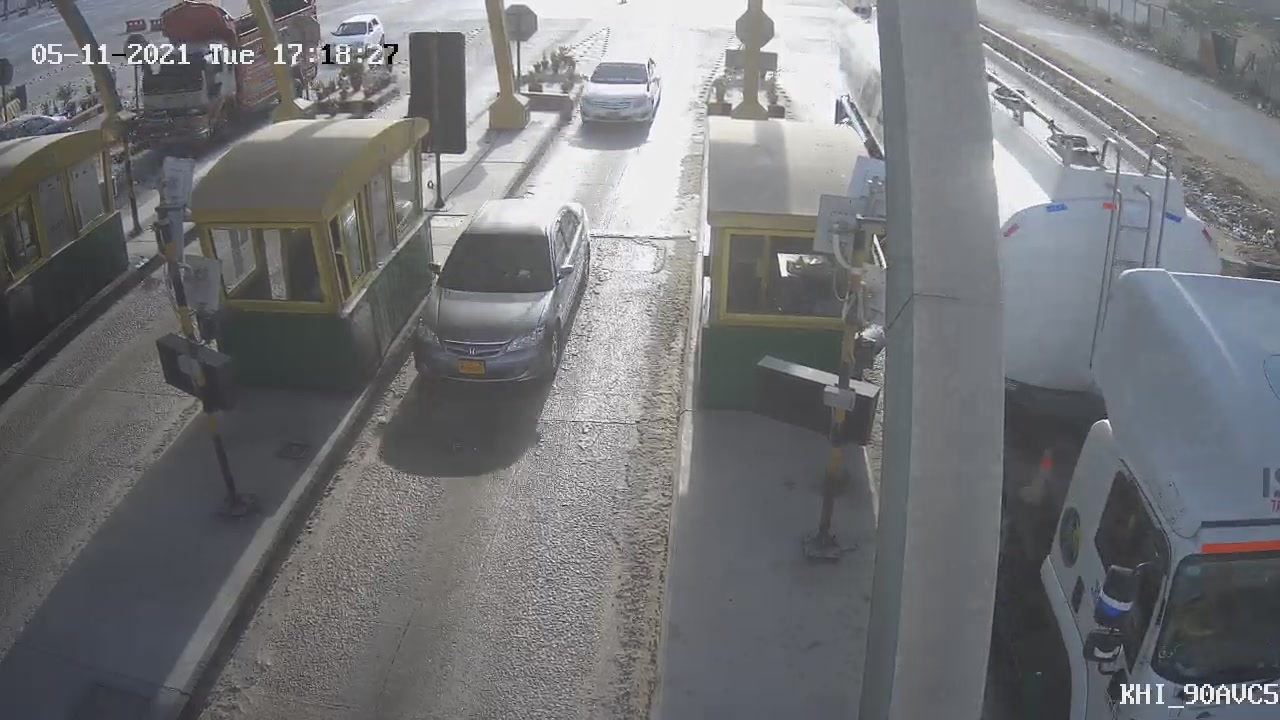F1: (392, 183, 607, 413)
